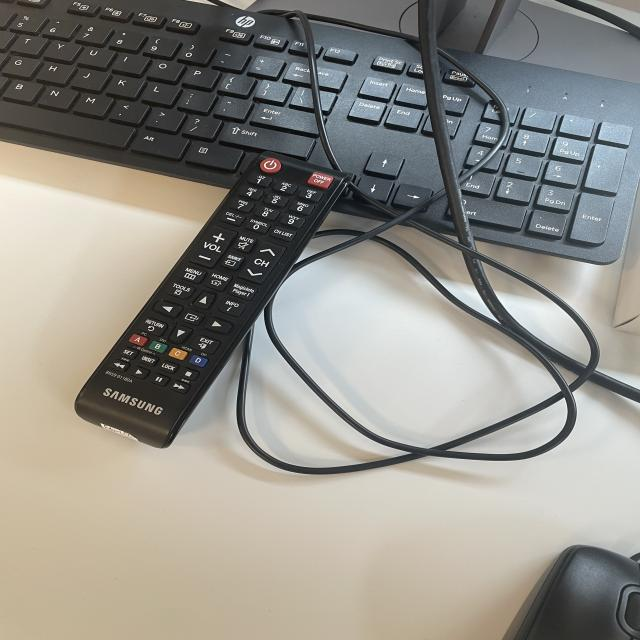remote: (72, 147, 358, 450)
